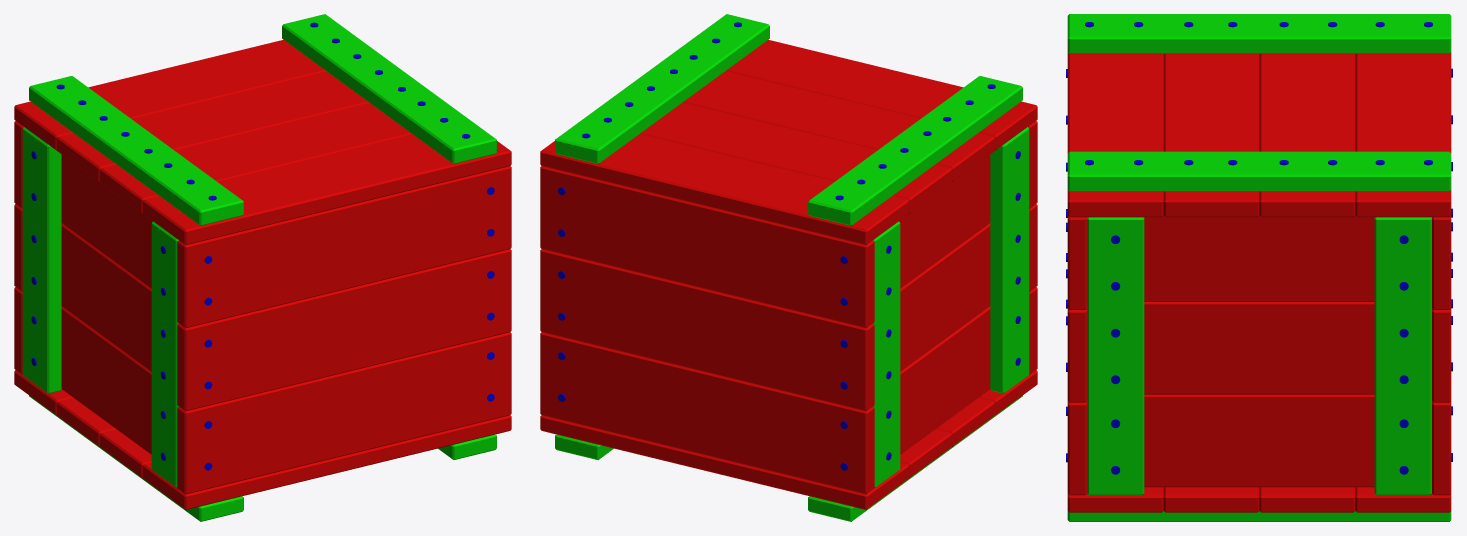
The model's file is 8crate.fbx.
The picture shows the model from 3 angles, left to right: view 1: azimuth 30°, elevation 25°; view 2: azimuth 150°, elevation 25°; view 3: azimuth 270°, elevation 25°; orthographic projection. The views are drawn at different scales.
Parts seen in each view (by area): view 1: Crate; view 2: Crate; view 3: Crate.
Part boxes in pixels (x1,y1,x2,y2): Crate: (14, 14, 511, 521); Crate: (540, 14, 1037, 521); Crate: (1066, 14, 1452, 521).
Bounding box in the file's own units: 222 × 202 × 202.
